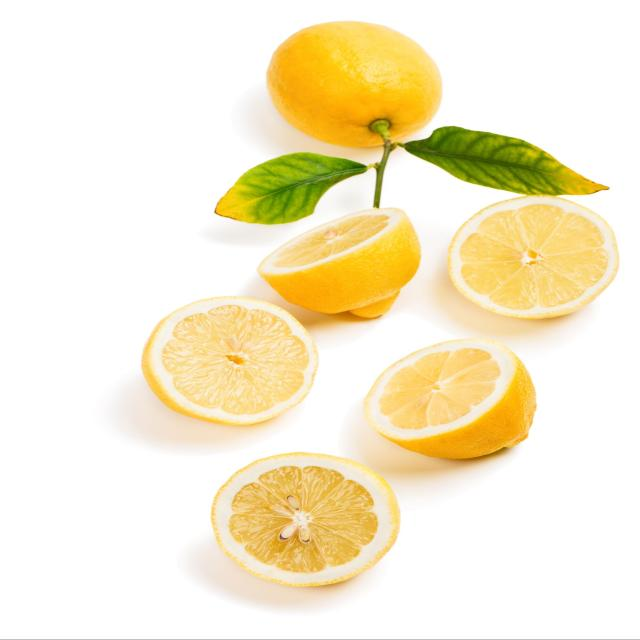lemon: (206, 447, 406, 590), (135, 292, 323, 429), (357, 336, 541, 462)
